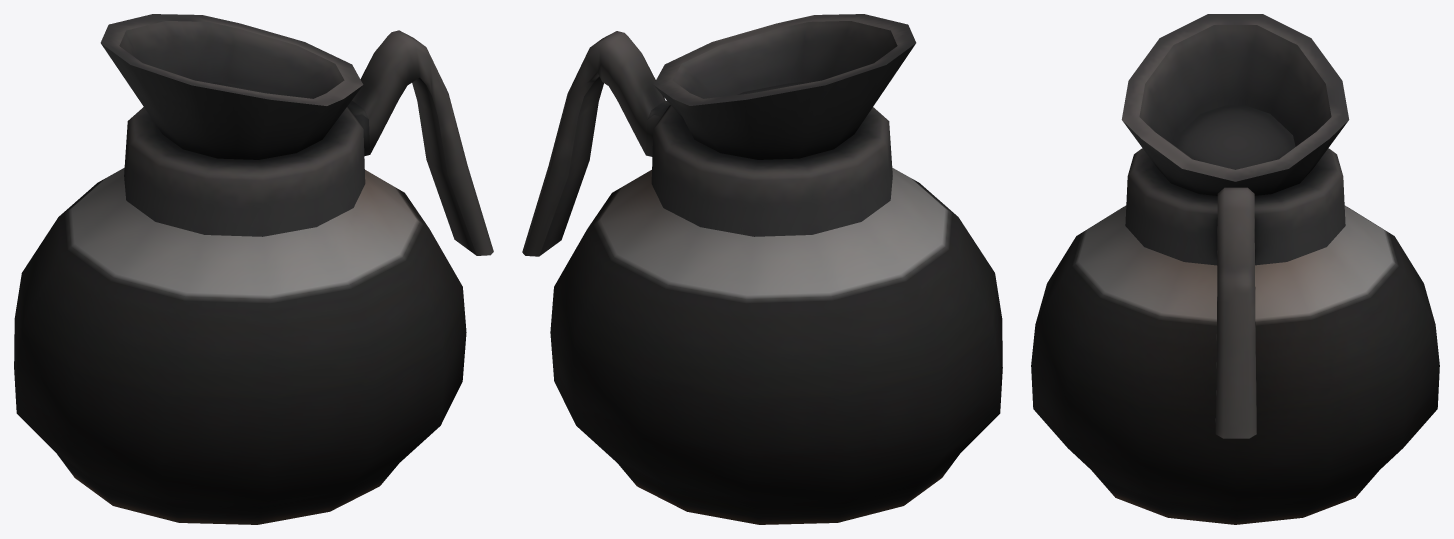
Rendered from CafeCoffeeHeater02_2.FBX.
3 views of the same model, side by side, from view 1: azimuth 30°, elevation 25°; view 2: azimuth 150°, elevation 25°; view 3: azimuth 270°, elevation 25° (orthographic). The views are drawn at different scales.
Visible parts, largest first — view 1: CafeCoffeeHeater02_2; view 2: CafeCoffeeHeater02_2; view 3: CafeCoffeeHeater02_2.
Part boxes in pixels (x1,y1,x2,y2): CafeCoffeeHeater02_2: (14, 14, 493, 524); CafeCoffeeHeater02_2: (522, 14, 1002, 524); CafeCoffeeHeater02_2: (1031, 14, 1439, 524).
Size of what is drawn, in the model's own units: 0.3213 by 0.2994 by 0.2806.
